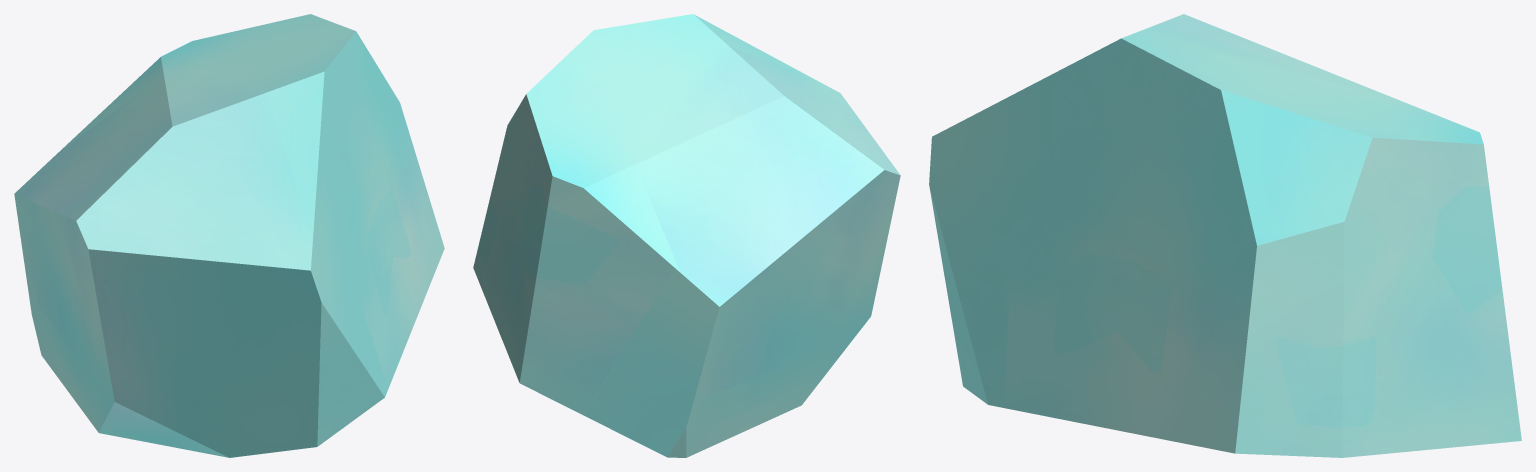
Rendered from rock small.fbx.
3 views of the same model, side by side, from view 1: azimuth 30°, elevation 25°; view 2: azimuth 150°, elevation 25°; view 3: azimuth 270°, elevation 25° (orthographic). The views are drawn at different scales.
Visible parts, largest first — view 1: rock small; view 2: rock small; view 3: rock small.
Boxes of the visible parts, <box> form: rock small: <box>14,14,444,457</box>; rock small: <box>473,14,900,457</box>; rock small: <box>929,14,1521,457</box>.
Size of the model in its own units: 55.73 by 47.6 by 57.12.
Materials: 1 (1 with a texture image).
